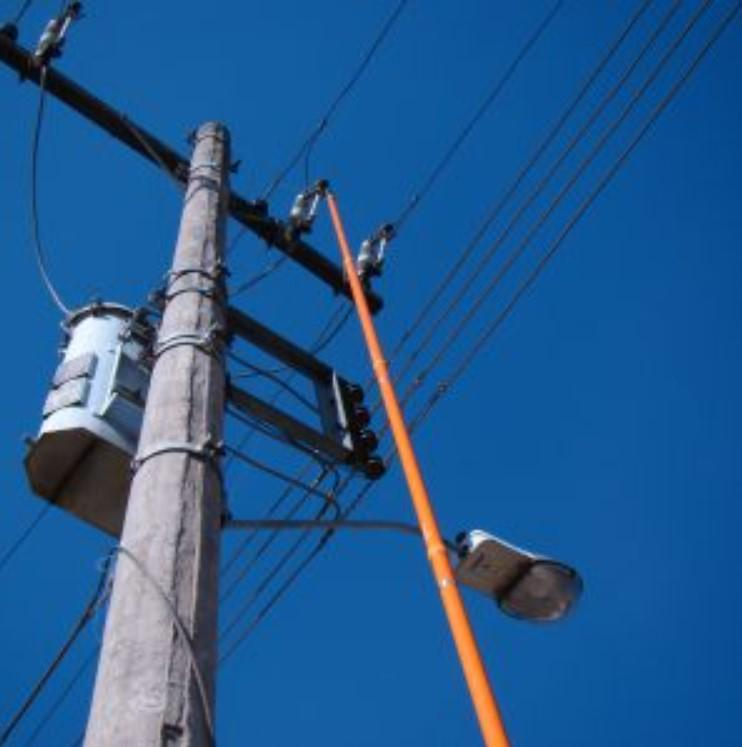Vara_Manobra: (323, 185, 506, 747)
